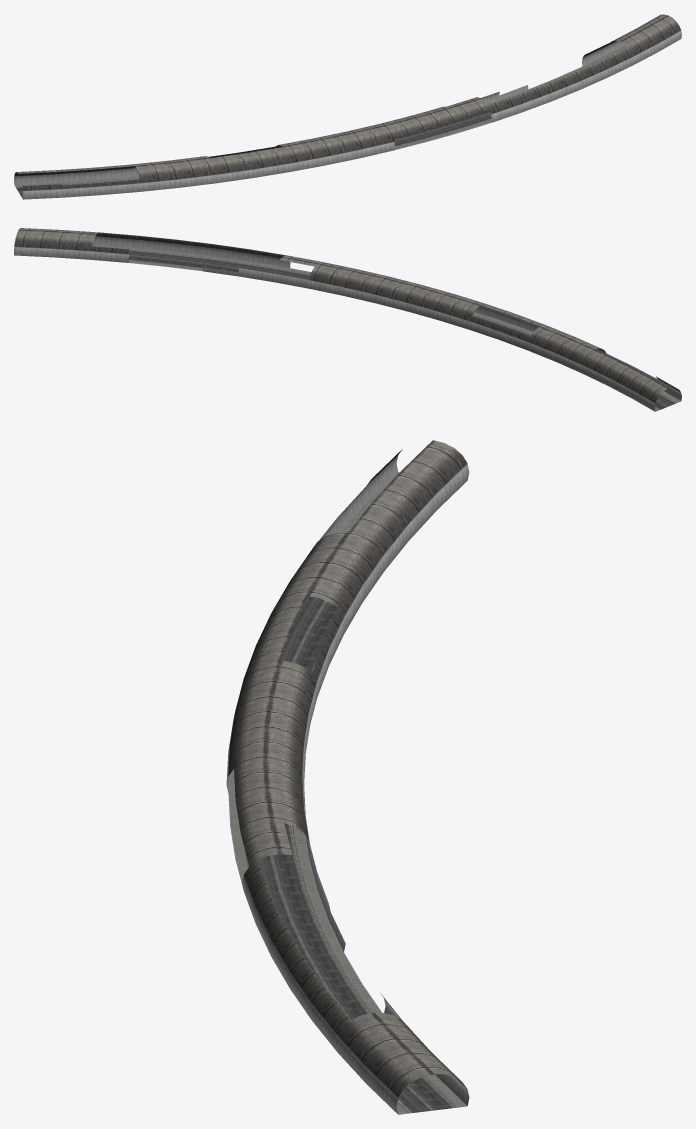
Rendered from ruinedTunnel.fbx.
3 renders of one model, top to bottom at view 1: azimuth 30°, elevation 25°; view 2: azimuth 150°, elevation 25°; view 3: azimuth 270°, elevation 25°, orthographic. The views are drawn at different scales.
Parts seen in each view (by area): view 1: tunnel_2; view 2: tunnel_2; view 3: tunnel_2.
Part boxes in pixels (<box>): tunnel_2: <box>14,14,681,199</box>; tunnel_2: <box>14,228,681,411</box>; tunnel_2: <box>226,440,469,1114</box>.
Size of the model in its own units: 11959 by 315 by 1909.
